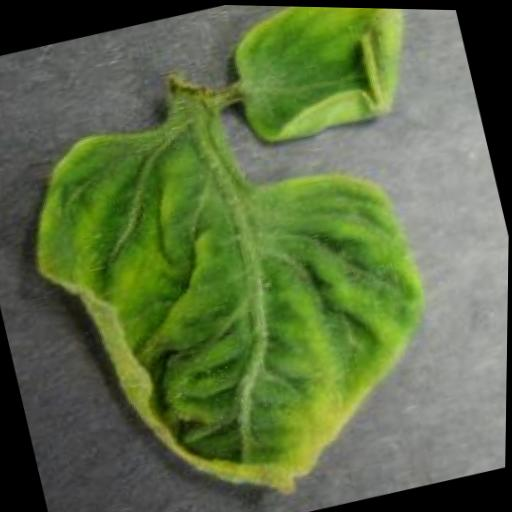Yellow Leaf Curl Virus: (3, 63, 467, 512), (221, 4, 427, 151)
